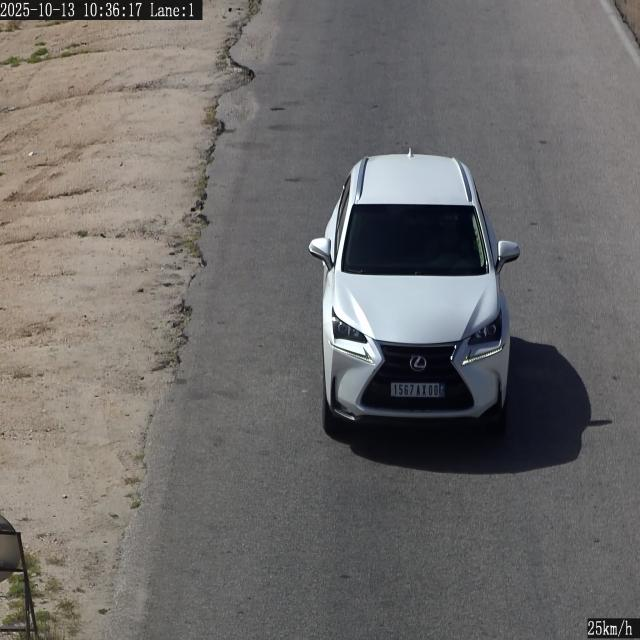BUS: (391, 381, 446, 400)
